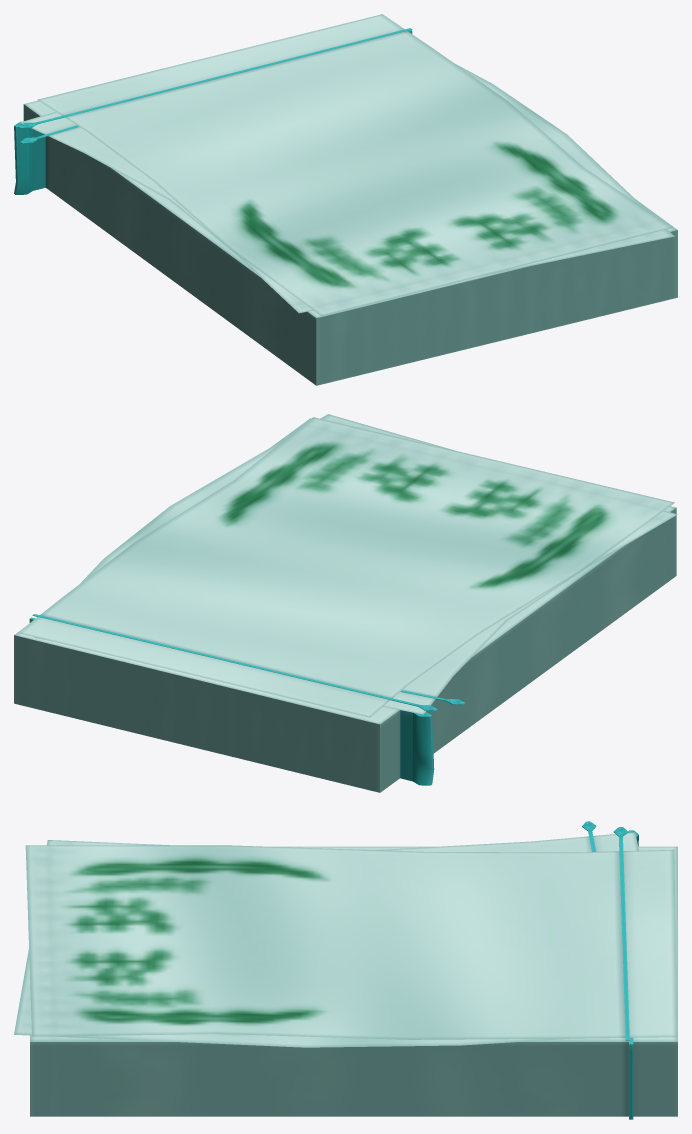
File: jsf_GoldfishBag_A_Set.fbx
3 views of the same model, one above another, from view 1: azimuth 30°, elevation 25°; view 2: azimuth 150°, elevation 25°; view 3: azimuth 270°, elevation 25° (orthographic). The views are drawn at different scales.
Visible parts, largest first — view 1: GoldfishBag_A02, GoldfishBag_A_Set, GoldfishBag_A01; view 2: GoldfishBag_A02, GoldfishBag_A_Set, GoldfishBag_A01; view 3: GoldfishBag_A02, GoldfishBag_A_Set, GoldfishBag_A01.
Boxes of the visible parts, x1=… form: GoldfishBag_A02: x1=18, y1=14, x2=672, y2=316; GoldfishBag_A_Set: x1=14, y1=30, x2=677, y2=385; GoldfishBag_A01: x1=19, y1=64, x2=674, y2=313; GoldfishBag_A02: x1=18, y1=417, x2=674, y2=717; GoldfishBag_A_Set: x1=14, y1=418, x2=676, y2=792; GoldfishBag_A01: x1=34, y1=414, x2=677, y2=714; GoldfishBag_A02: x1=25, y1=827, x2=677, y2=1040; GoldfishBag_A_Set: x1=30, y1=830, x2=677, y2=1119; GoldfishBag_A01: x1=14, y1=821, x2=638, y2=1047.
Size of the model in its own units: 16.2 by 2.62 by 20.11.
